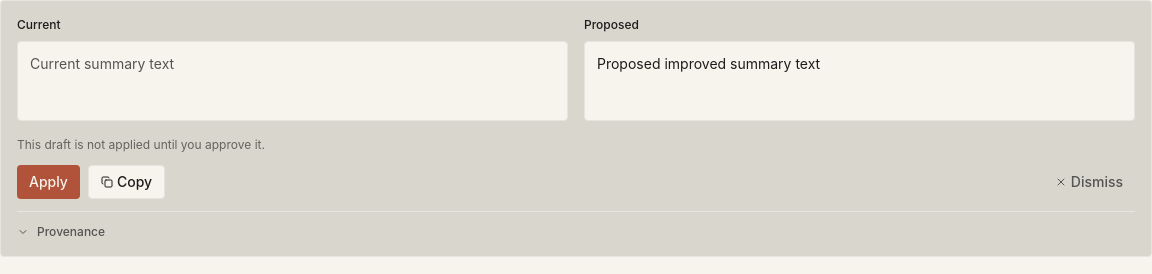
it: SuggestionCard › button interactions › copies to clipboard and shows confirmation
Click the button "Copy": (126, 182) [88,165,165,199]
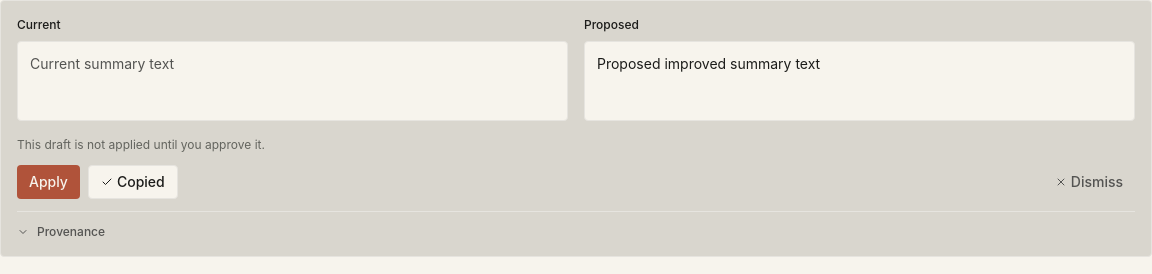
Now the button "Copied" is shown, box [88,165,178,199]
